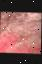plaque psoriasis: (0, 10, 42, 53)
